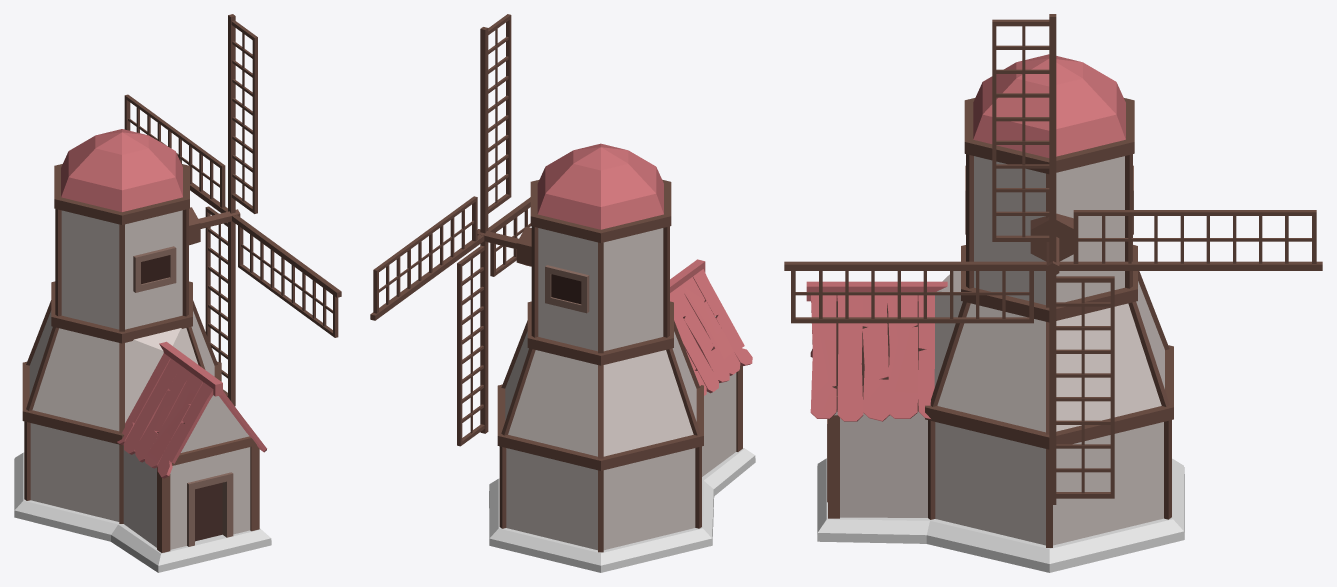
File: Building_016.glb
3 renders of one model, left to right at view 1: azimuth 30°, elevation 25°; view 2: azimuth 150°, elevation 25°; view 3: azimuth 270°, elevation 25°, orthographic. The views are drawn at different scales.
Parts seen in each view (by area): view 1: Building_016; view 2: Building_016; view 3: Building_016.
Part boxes in pixels (x1,y1,x2,y2): Building_016: (14,14,341,572); Building_016: (370,14,755,572); Building_016: (784,14,1322,572).
Size of the model in its own units: 15.39 by 29.25 by 25.5.
Materials: 1 (1 with a texture image).
